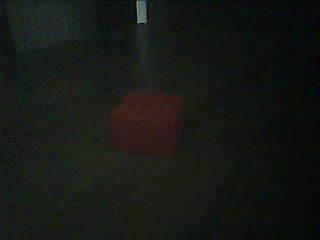lego: (109, 91, 185, 156)
